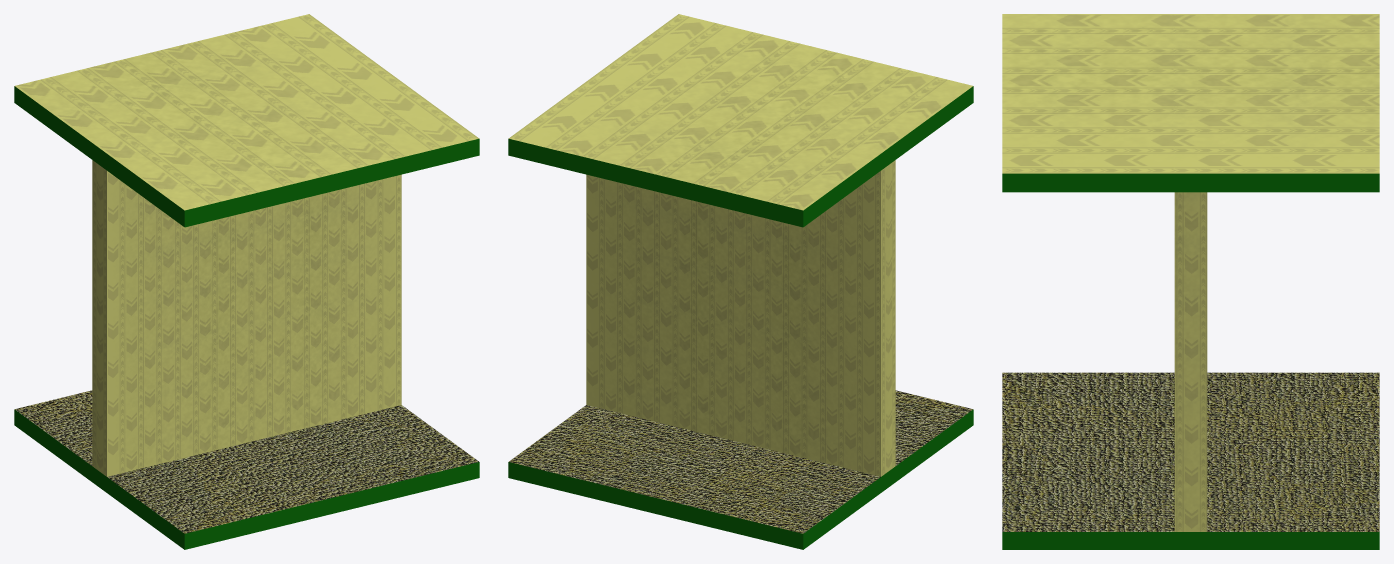
Rendered from level_0.glb.
3 renders of one model, left to right at view 1: azimuth 30°, elevation 25°; view 2: azimuth 150°, elevation 25°; view 3: azimuth 270°, elevation 25°, orthographic. The views are drawn at different scales.
Parts seen in each view (by area): view 1: base.004; view 2: base.004; view 3: base.004.
Part boxes in pixels (box(x1,y1,x2,y2)): base.004: box(14, 14, 479, 549); base.004: box(508, 14, 973, 549); base.004: box(1002, 14, 1379, 549).
Size of the model in its own units: 2 by 2.2 by 2.
3 materials, 2 textured.
